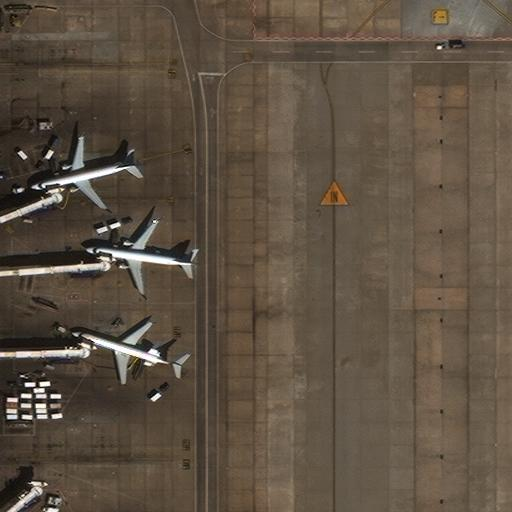Medium Civil Transport: (85, 216, 194, 294), (30, 137, 135, 209), (70, 320, 181, 384)
